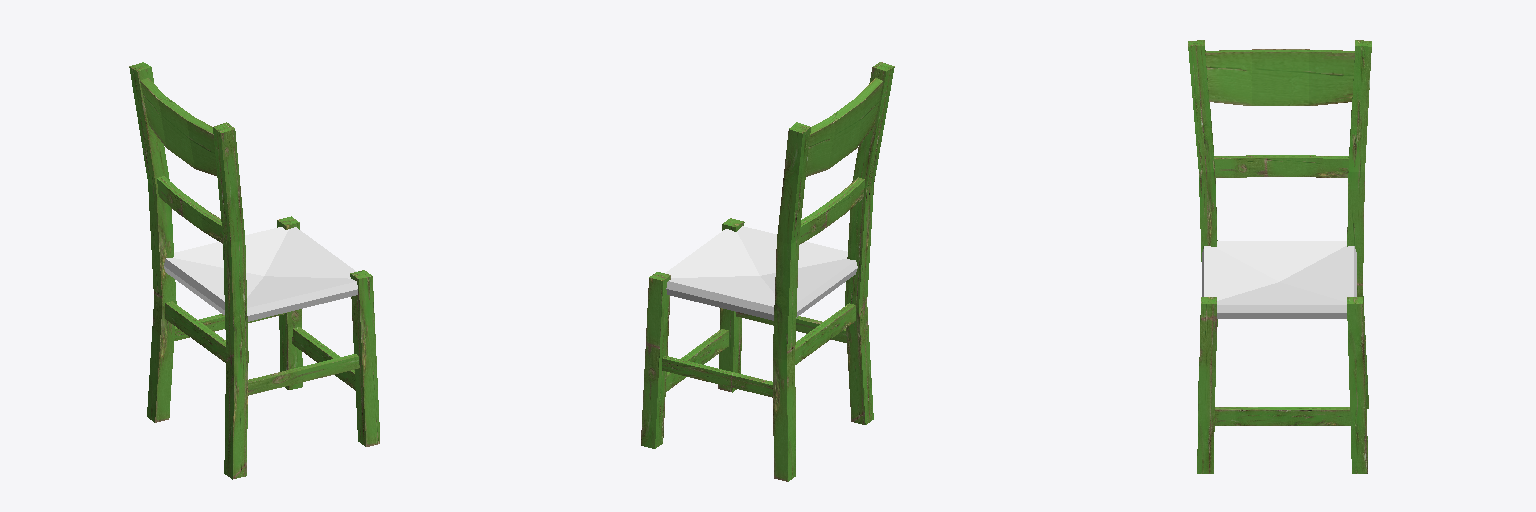
The picture shows the model from 3 angles: view 1: azimuth 30°, elevation 25°; view 2: azimuth 150°, elevation 25°; view 3: azimuth 270°, elevation 25°; orthographic projection.
Parts seen in each view (by area): view 1: Box03, OilTank01; view 2: Box03, OilTank01; view 3: Box03, OilTank01.
Part boxes in pixels (x1,y1,x2,y2): Box03: (129, 62, 379, 479); OilTank01: (164, 227, 357, 321); Box03: (641, 62, 894, 481); OilTank01: (665, 226, 857, 320); Box03: (1188, 40, 1371, 473); OilTank01: (1202, 241, 1356, 318).
Bounding box in the file's own units: 0.466 × 0.9529 × 0.4463.
2 materials, 1 textured.